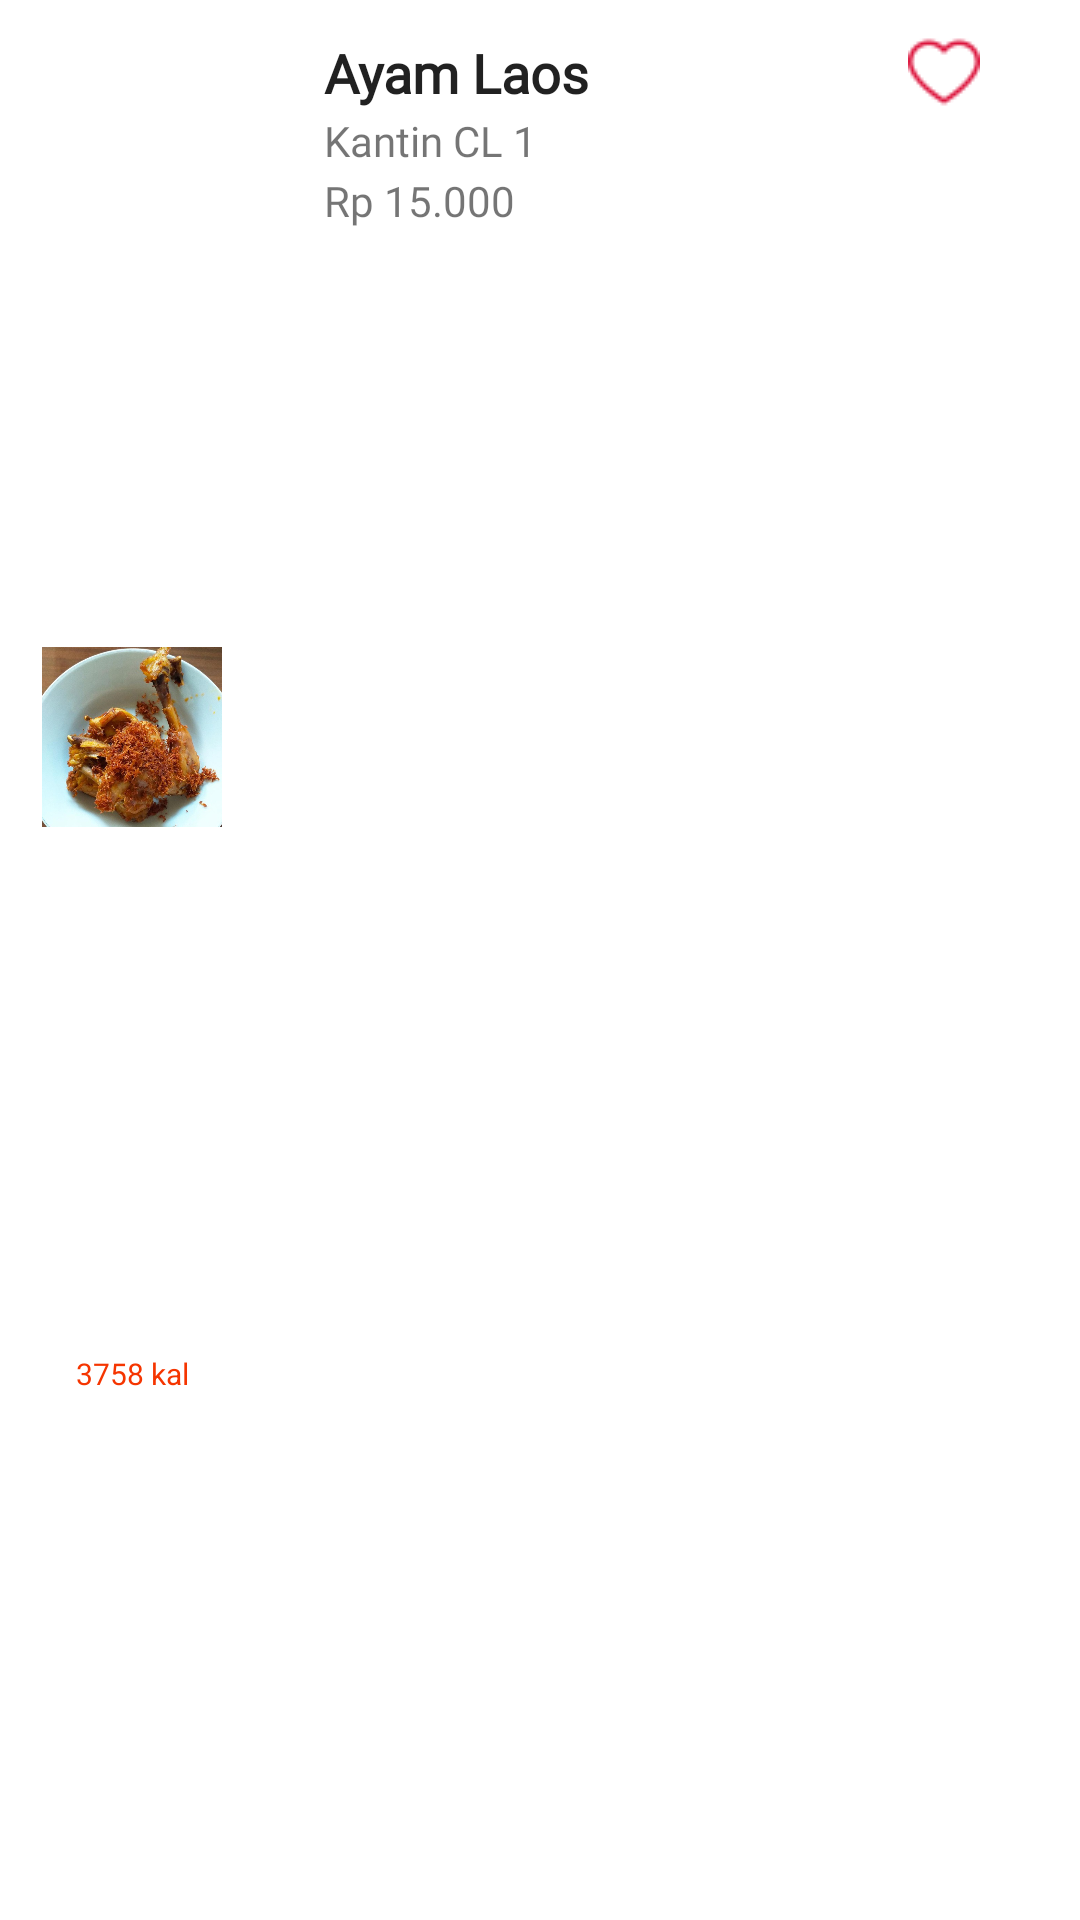

Locate icon controls on the screen. Image size 1080 x 1920, boxes as (x1, y1, x2, y2).
ayam laos: (42, 647, 222, 827)
suka: (908, 38, 980, 105)
